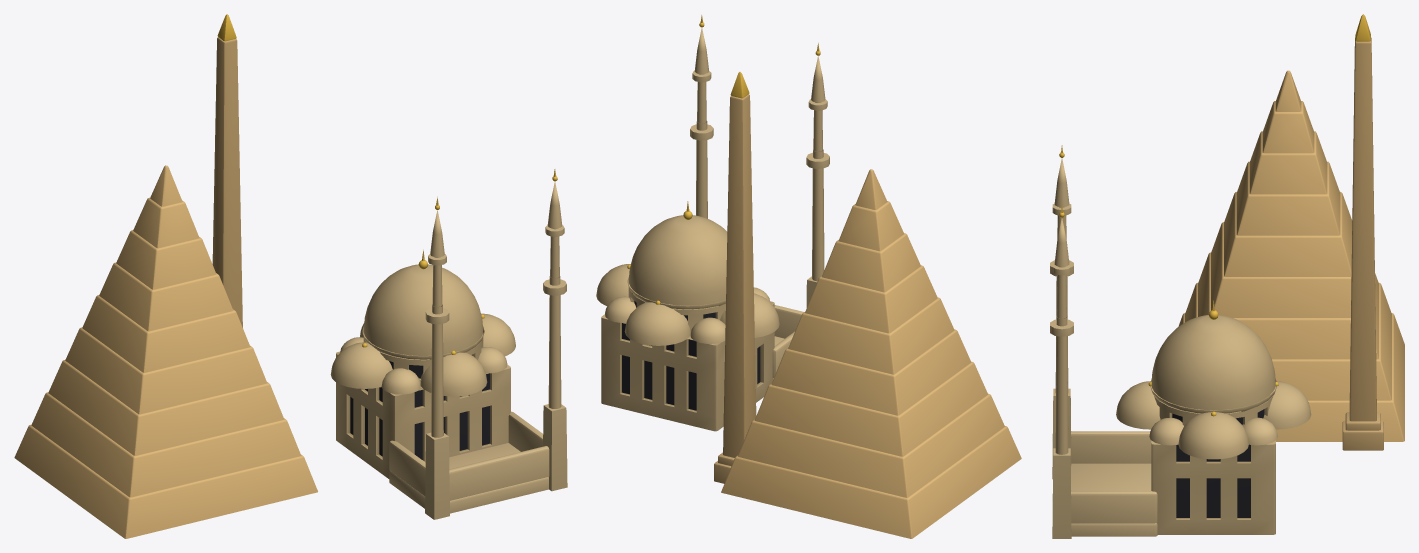
File: landmark_cairo_solo.glb
The picture shows the model from 3 angles, left to right: view 1: azimuth 30°, elevation 25°; view 2: azimuth 150°, elevation 25°; view 3: azimuth 270°, elevation 25°; orthographic projection. The views are drawn at different scales.
Parts seen in each view (by area): view 1: Pyramid_Sandstone, Mosque_Stone, Mosque_Domes, Mosque_Minarets, Obelisk_Granite; view 2: Pyramid_Sandstone, Mosque_Domes, Mosque_Stone, Obelisk_Granite, Mosque_Minarets; view 3: Pyramid_Sandstone, Mosque_Stone, Mosque_Domes, Obelisk_Granite, Mosque_Minarets.
Part boxes in pixels (x1=…): Pyramid_Sandstone: x1=14, y1=165, x2=317, y2=538; Mosque_Stone: x1=336, y1=326, x2=549, y2=513; Mosque_Domes: x1=330, y1=249, x2=515, y2=396; Mosque_Minarets: x1=425, y1=169, x2=567, y2=519; Obelisk_Granite: x1=212, y1=14, x2=242, y2=327; Pyramid_Sandstone: x1=721, y1=169, x2=1021, y2=538; Mosque_Domes: x1=596, y1=201, x2=779, y2=345; Mosque_Stone: x1=601, y1=277, x2=803, y2=431; Obelisk_Granite: x1=714, y1=72, x2=756, y2=483; Mosque_Minarets: x1=690, y1=15, x2=829, y2=307; Pyramid_Sandstone: x1=1178, y1=70, x2=1404, y2=441; Mosque_Stone: x1=1071, y1=379, x2=1276, y2=536; Mosque_Domes: x1=1116, y1=300, x2=1311, y2=459; Obelisk_Granite: x1=1342, y1=14, x2=1383, y2=450; Mosque_Minarets: x1=1050, y1=145, x2=1073, y2=538.
Size of the model in its own units: 1.18 by 1.14 by 0.8535.
